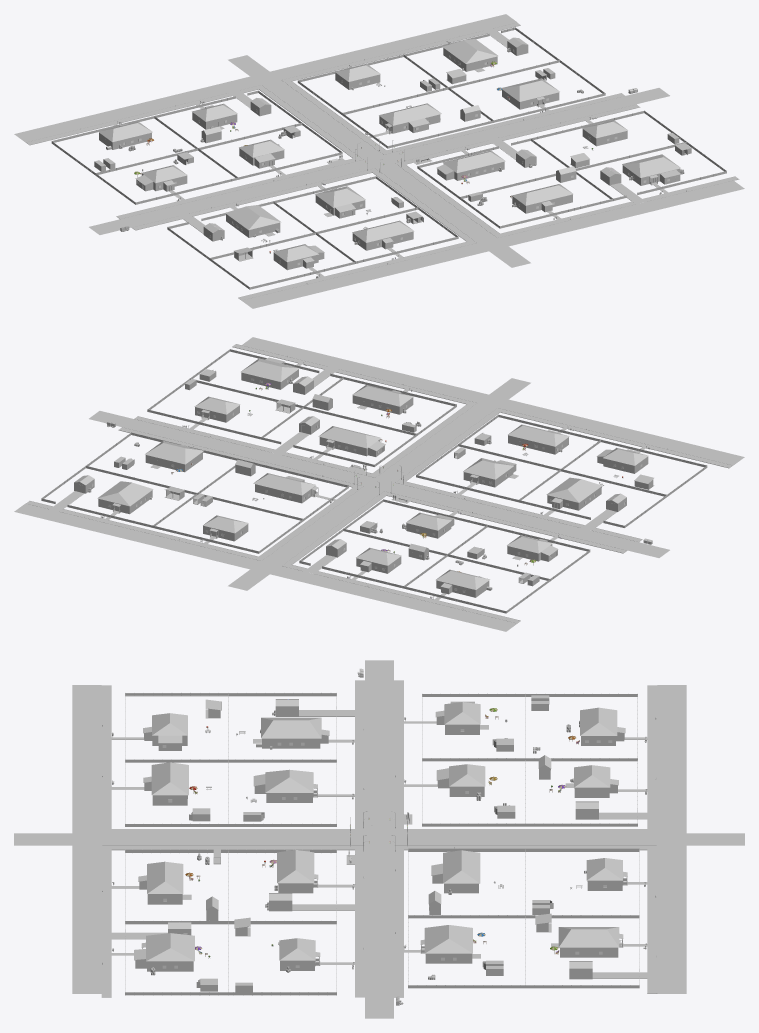
File: PuebloBileorth.fbx
The picture shows the model from 3 angles, top to bottom: view 1: azimuth 30°, elevation 25°; view 2: azimuth 150°, elevation 25°; view 3: azimuth 270°, elevation 25°; orthographic projection. The views are drawn at different scales.
Parts seen in each view (by area): view 1: Plane.001, Tropka.018, Tropka.028, Tropka.006, Zabor.025, Zabor.009, Zabor.004, Zabor.013, Roof, Zabor.027, Roof.020, Roof.029 (+14 smaller); view 2: Plane.001, Tropka.018, Tropka.028, Tropka.006, Zabor.027, Zabor.009, Zabor.025, Zabor.004, Roof, Roof.020, Roof.029, Roof.008 (+15 smaller); view 3: Plane.001, Tropka.018, Tropka.028, Tropka.006, Roof.029, Roof.008, Roof, Roof.020, Roof.004, Roof.018, Roof.006, RoofHause.008 (+19 smaller).
Boxes of the visible parts, x1,y1,x2,y2 form: Plane.001: [14, 14, 744, 308]; Tropka.018: [26, 84, 477, 300]; Tropka.028: [395, 104, 739, 237]; Tropka.006: [281, 22, 625, 154]; Zabor.025: [342, 87, 493, 148]; Zabor.009: [273, 176, 418, 234]; Zabor.004: [198, 122, 342, 179]; Zabor.013: [449, 60, 605, 122]; Roof: [225, 205, 281, 230]; Zabor.027: [417, 138, 569, 199]; Roof.020: [442, 39, 498, 63]; Roof.029: [622, 154, 680, 177]; Plane.001: [14, 337, 744, 631]; Tropka.018: [281, 407, 732, 623]; Tropka.028: [134, 344, 477, 477]; Tropka.006: [26, 427, 363, 560]; Zabor.027: [261, 406, 416, 466]; Zabor.009: [416, 444, 560, 502]; Zabor.025: [197, 459, 348, 520]; Zabor.004: [343, 499, 487, 555]; Roof: [546, 477, 602, 502]; Roof.020: [97, 481, 153, 506]; Roof.029: [240, 358, 299, 381]; Roof.008: [145, 441, 203, 464]; Plane.001: [14, 660, 744, 1018]; Tropka.018: [101, 680, 657, 833]; Tropka.028: [101, 845, 364, 997]; Tropka.006: [394, 845, 657, 997]; Roof.029: [146, 933, 194, 961]; Roof.008: [424, 925, 472, 953]; Roof: [261, 717, 321, 738]; Roof.020: [558, 927, 619, 947]; Roof.004: [277, 849, 314, 883]; Roof.018: [443, 850, 480, 883]; Roof.006: [151, 762, 188, 795]; RoofHause.008: [147, 861, 183, 893].
Bounding box in the file's own units: 29004 × 758 × 25014.
